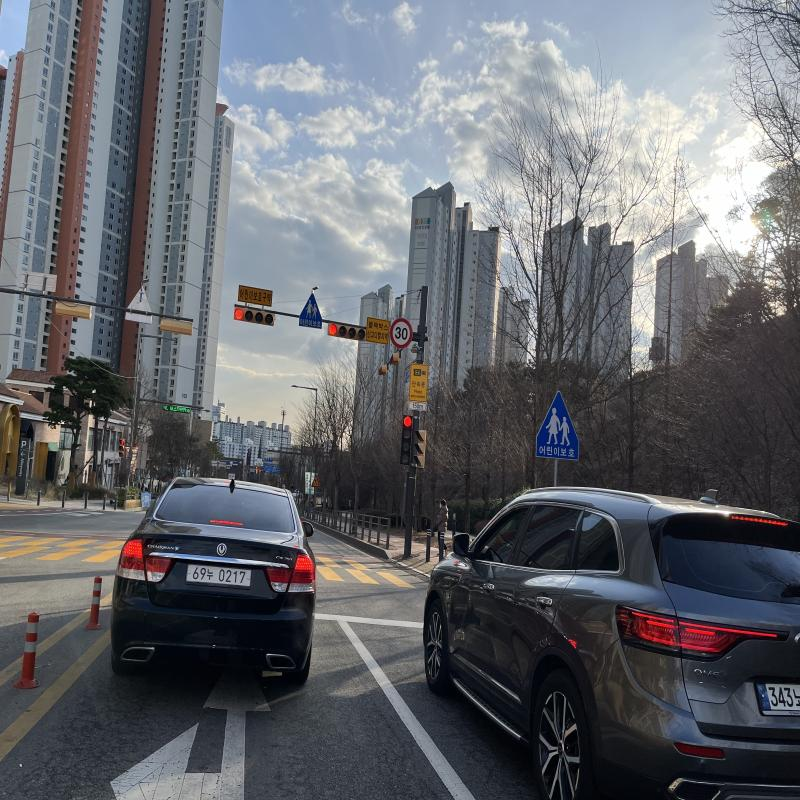red: (403, 416, 413, 428), (329, 325, 337, 335), (235, 309, 243, 319)
